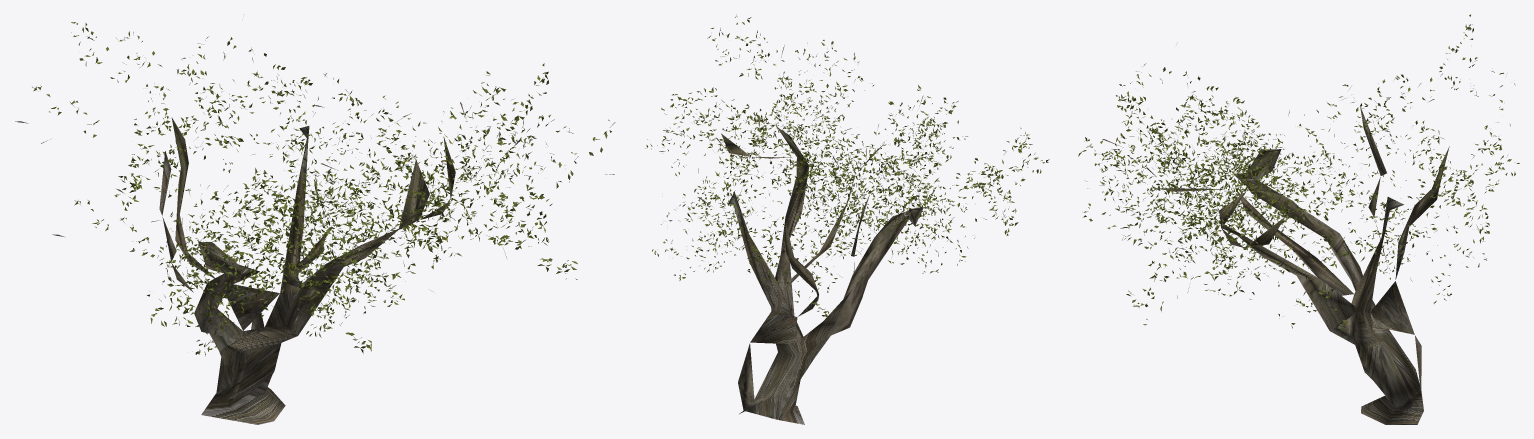
Rendered from island_tree_02_far.glb.
The picture shows the model from 3 angles, left to right: view 1: azimuth 30°, elevation 25°; view 2: azimuth 150°, elevation 25°; view 3: azimuth 270°, elevation 25°; orthographic projection. The views are drawn at different scales.
Visible parts, largest first — view 1: island_tree_02_LOD0; view 2: island_tree_02_LOD0; view 3: island_tree_02_LOD0.
Boxes of the visible parts, box(x1,y1,x2,y2) form: island_tree_02_LOD0: box(15, 14, 615, 424); island_tree_02_LOD0: box(645, 14, 1049, 424); island_tree_02_LOD0: box(1078, 14, 1519, 424).
Size of the model in its own units: 4.04 by 3.39 by 3.99.
Materials: 3 (3 with a texture image).
